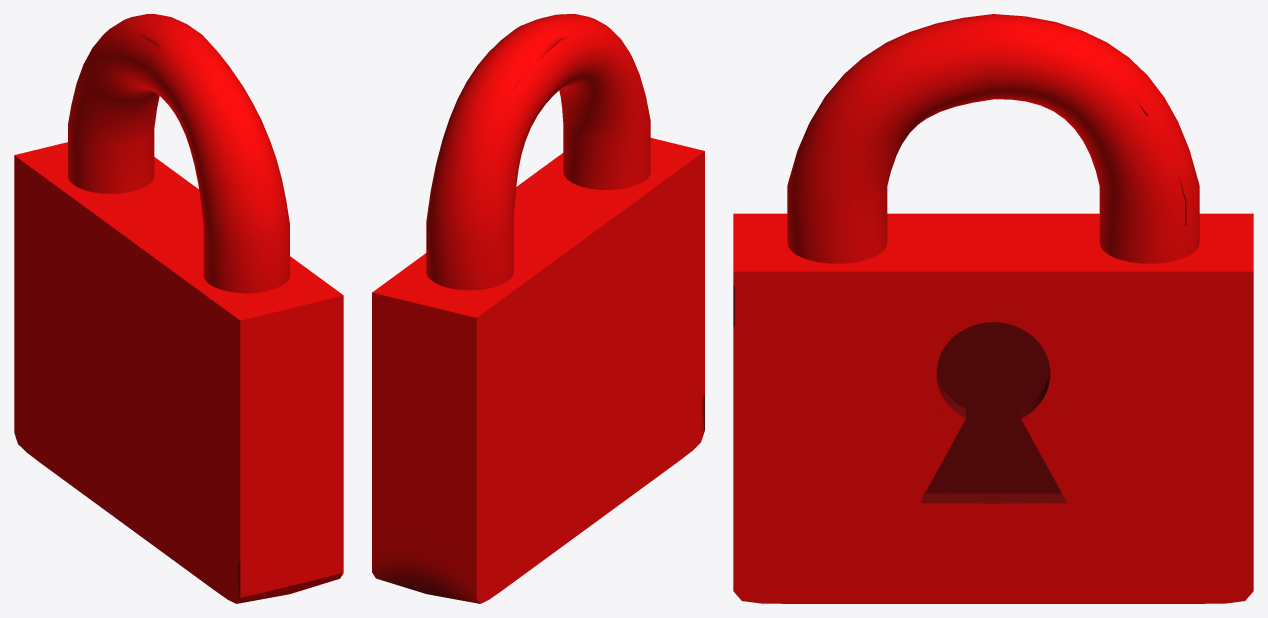
The model's file is Candado.fbx.
The picture shows the model from 3 angles, left to right: view 1: azimuth 30°, elevation 25°; view 2: azimuth 150°, elevation 25°; view 3: azimuth 270°, elevation 25°; orthographic projection. The views are drawn at different scales.
Visible parts, largest first — view 1: Cylinder; view 2: Cylinder; view 3: Cylinder.
Boxes of the visible parts, x1,y1,x2,y2 form: Cylinder: (14,14,343,603); Cylinder: (372,14,704,603); Cylinder: (733,14,1253,603).
Size of the model in its own units: 176 by 793 by 667.
Materials: 1 (1 with a texture image).
